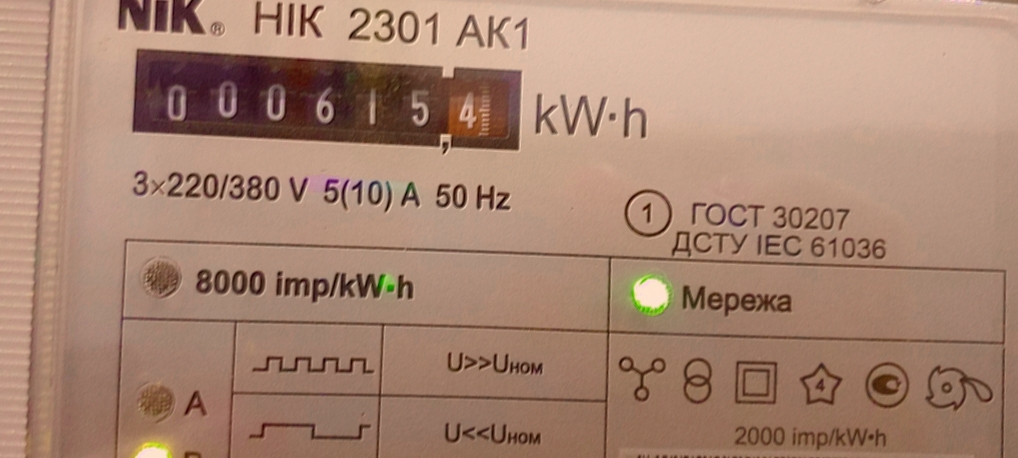0: (260, 78, 288, 123), (161, 79, 189, 122), (213, 76, 239, 117)
1: (363, 83, 379, 126)
4: (455, 87, 477, 129)
5: (406, 84, 431, 128)
6: (310, 82, 337, 124)
screen: (114, 28, 537, 172)
